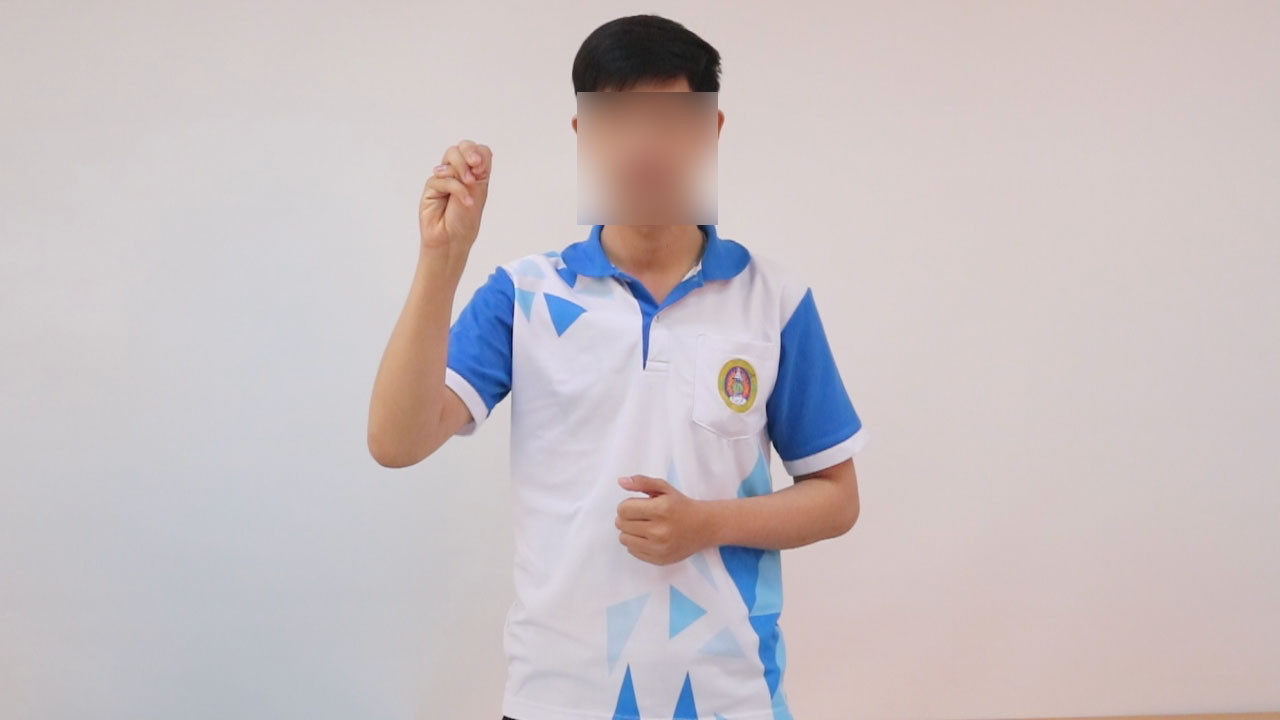mor: (414, 121, 497, 273)
